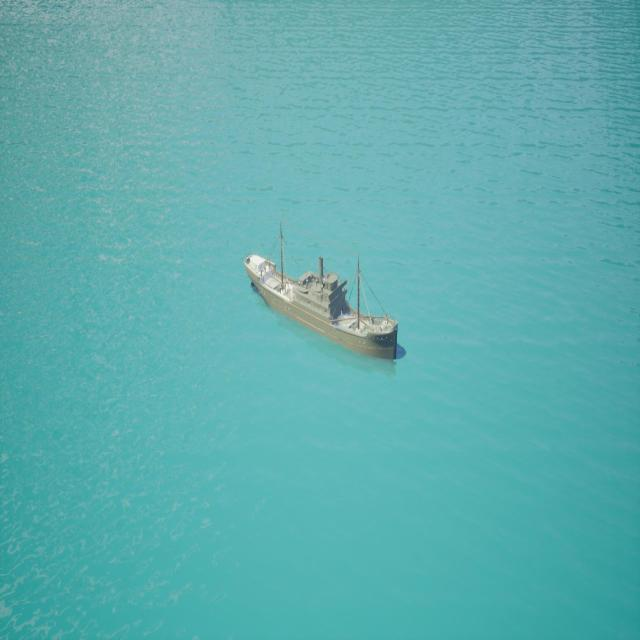fishing ship: (244, 252, 406, 365), (298, 270, 378, 330)
